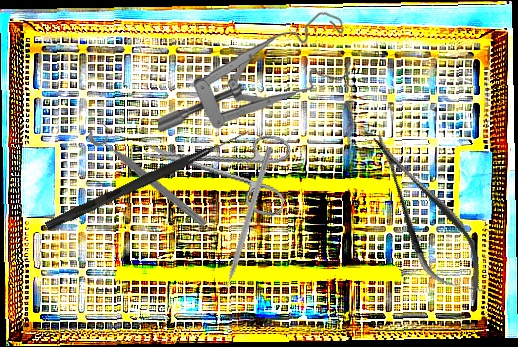Chopper: (212, 143, 274, 300)
Fixation Ring: (85, 119, 216, 231)
Hook Surgical: (44, 124, 251, 234)
Iris Scissors: (136, 108, 298, 219)
Micro Scissor: (354, 120, 500, 314)
Speculum: (154, 10, 352, 134)
